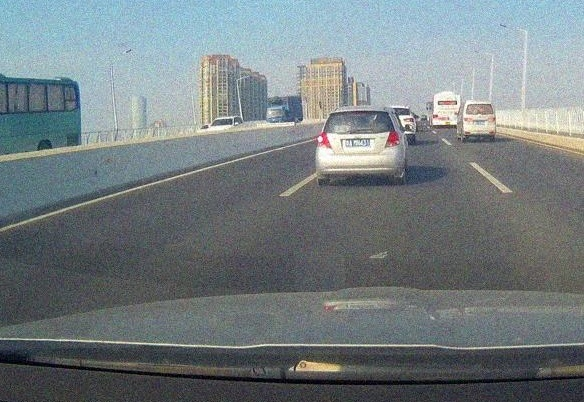L_light: (316, 132, 332, 149), (464, 118, 472, 121)
R_light: (384, 130, 400, 147), (487, 118, 495, 122)
T_light: (353, 111, 365, 114), (476, 104, 482, 106)
day-left: (315, 105, 404, 185)
day-no: (463, 99, 496, 142)
